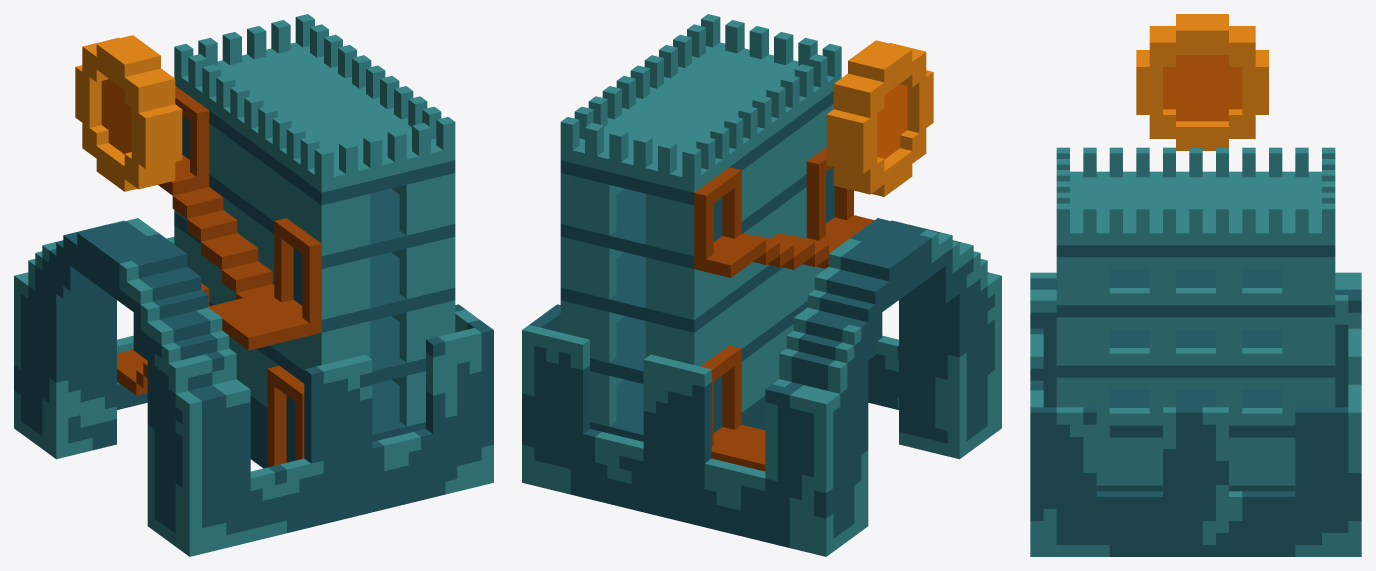
Rendered from coin_factory.obj.
3 renders of one model, left to right at view 1: azimuth 30°, elevation 25°; view 2: azimuth 150°, elevation 25°; view 3: azimuth 270°, elevation 25°, orthographic. The views are drawn at different scales.
Bounding box in the file's own units: 2.5 × 3.4 × 2.5.
Materials: 1 (1 with a texture image).
